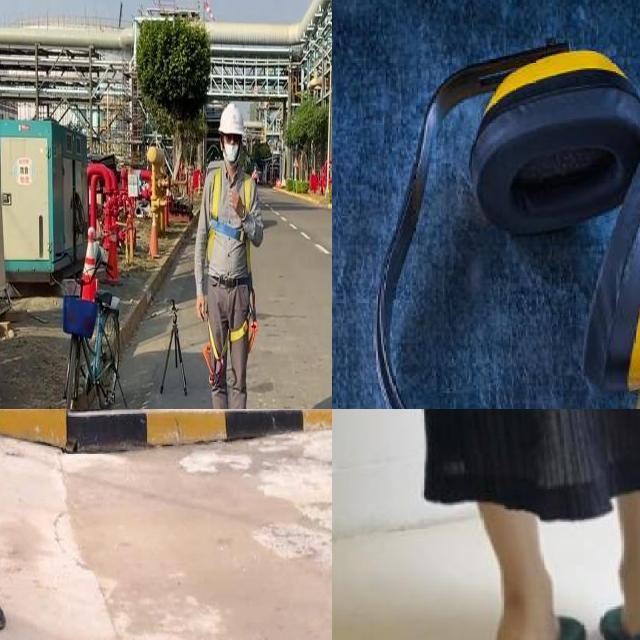Ear-protection: (401, 41, 640, 409)
Harness: (208, 167, 250, 270), (202, 317, 258, 388)
Sandals: (417, 585, 614, 640)
person: (0, 409, 89, 640)
